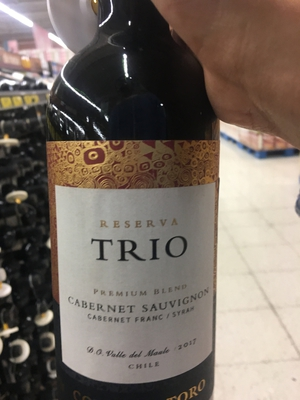trio cabernet sauvignon: (31, 25, 243, 396)
